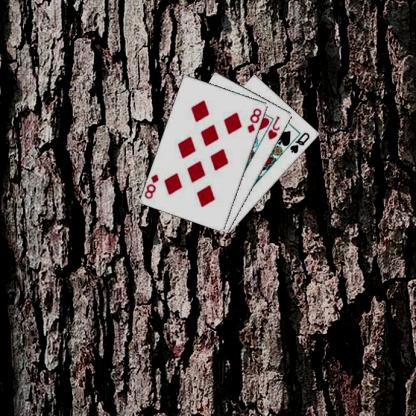8D: (246, 105, 264, 134), (144, 171, 162, 200)
JH: (267, 114, 283, 140)
QS: (289, 130, 313, 154)
